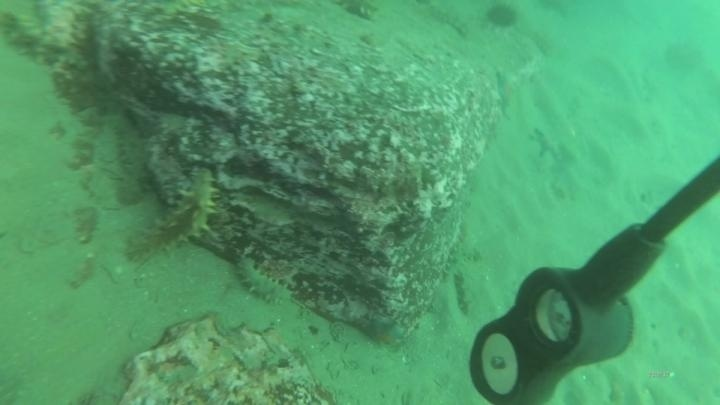echinus: (482, 2, 522, 32)
holothurian: (124, 166, 224, 263), (1, 10, 89, 74), (115, 111, 154, 202), (231, 250, 293, 307), (58, 107, 102, 178), (94, 110, 123, 208), (450, 268, 475, 320)
starfish: (358, 312, 407, 350), (492, 68, 523, 121)
